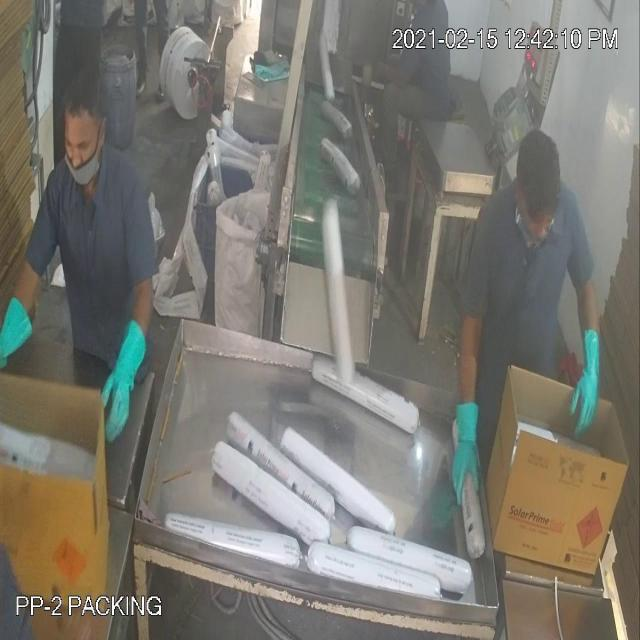Gloves: (39, 112, 586, 454)
